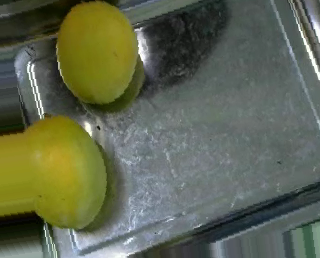Mango: (54, 0, 137, 103), (31, 116, 107, 228)
